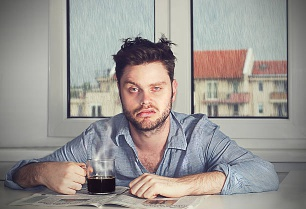male: (118, 49, 173, 130)
